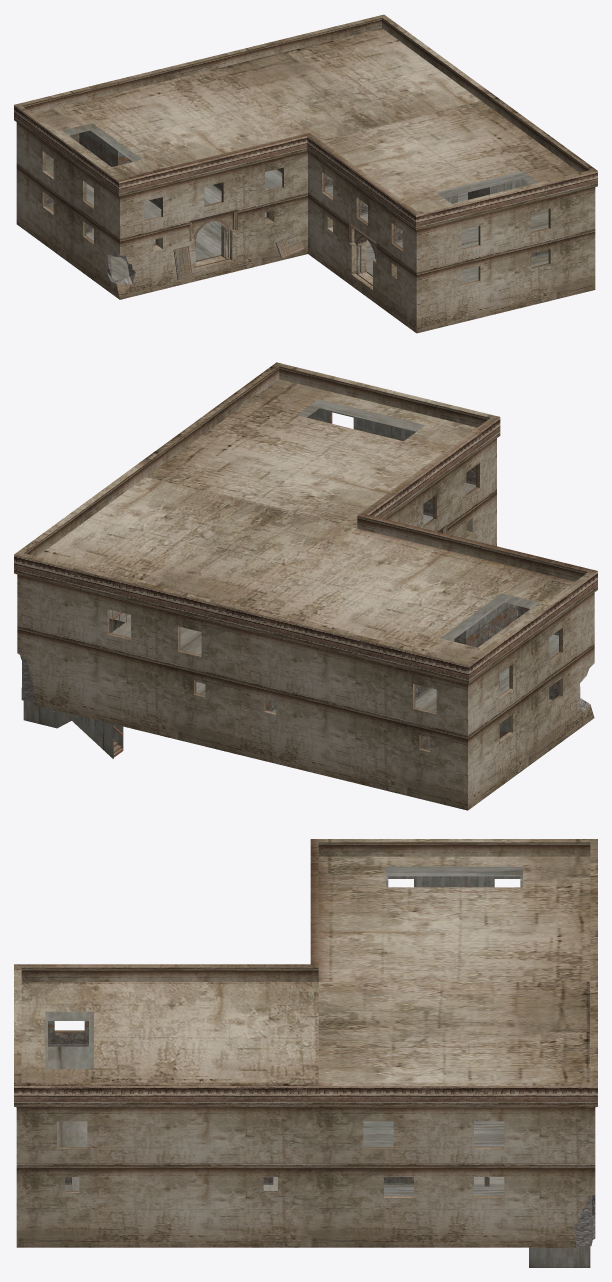
Rendered from RE_Bld1.glb.
3 views of the same model, one above another, from view 1: azimuth 30°, elevation 25°; view 2: azimuth 150°, elevation 25°; view 3: azimuth 270°, elevation 25° (orthographic). The views are drawn at different scales.
Visible parts, largest first — view 1: _RE_Bld1; view 2: _RE_Bld1; view 3: _RE_Bld1.
Part boxes in pixels (x1=…): _RE_Bld1: x1=14, y1=14, x2=597, y2=333; _RE_Bld1: x1=14, y1=362, x2=597, y2=810; _RE_Bld1: x1=14, y1=839, x2=597, y2=1267.
Size of the model in its own units: 37.73 by 15.79 by 37.73.
Materials: 9 (9 with a texture image).
